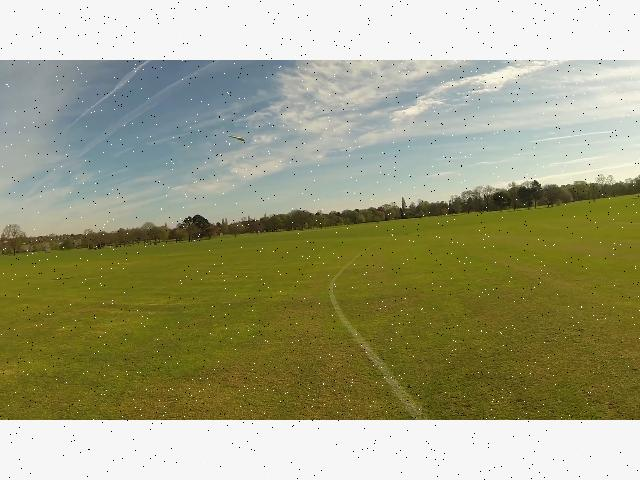Anti-Drone: (225, 124, 251, 145)
